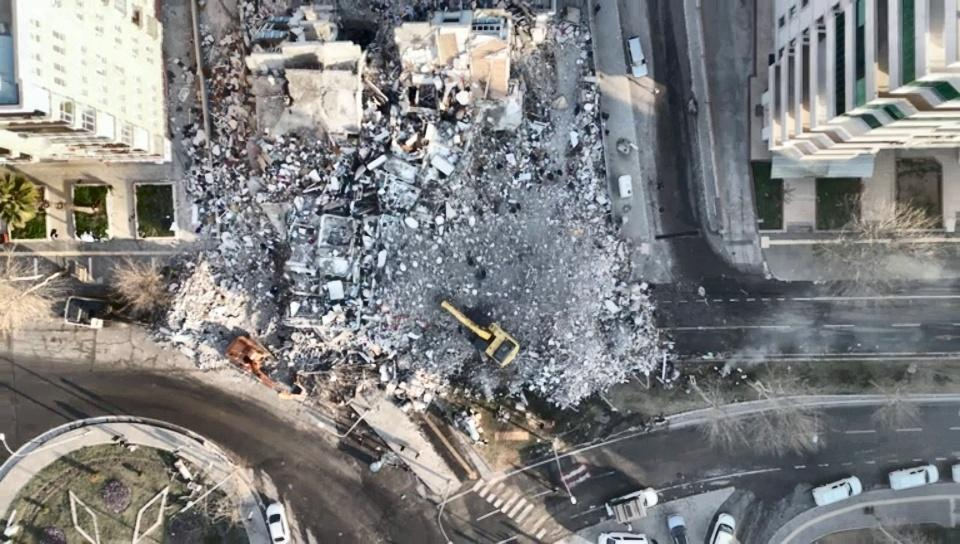kapali: (346, 301, 719, 356)
